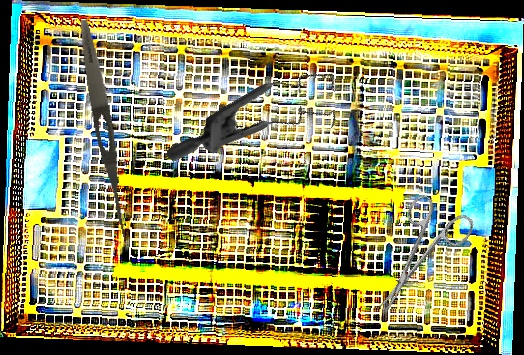Dressing Forceps: (74, 18, 135, 239)
Iris Scissors: (353, 186, 478, 328)
Speculum: (164, 23, 359, 226)
